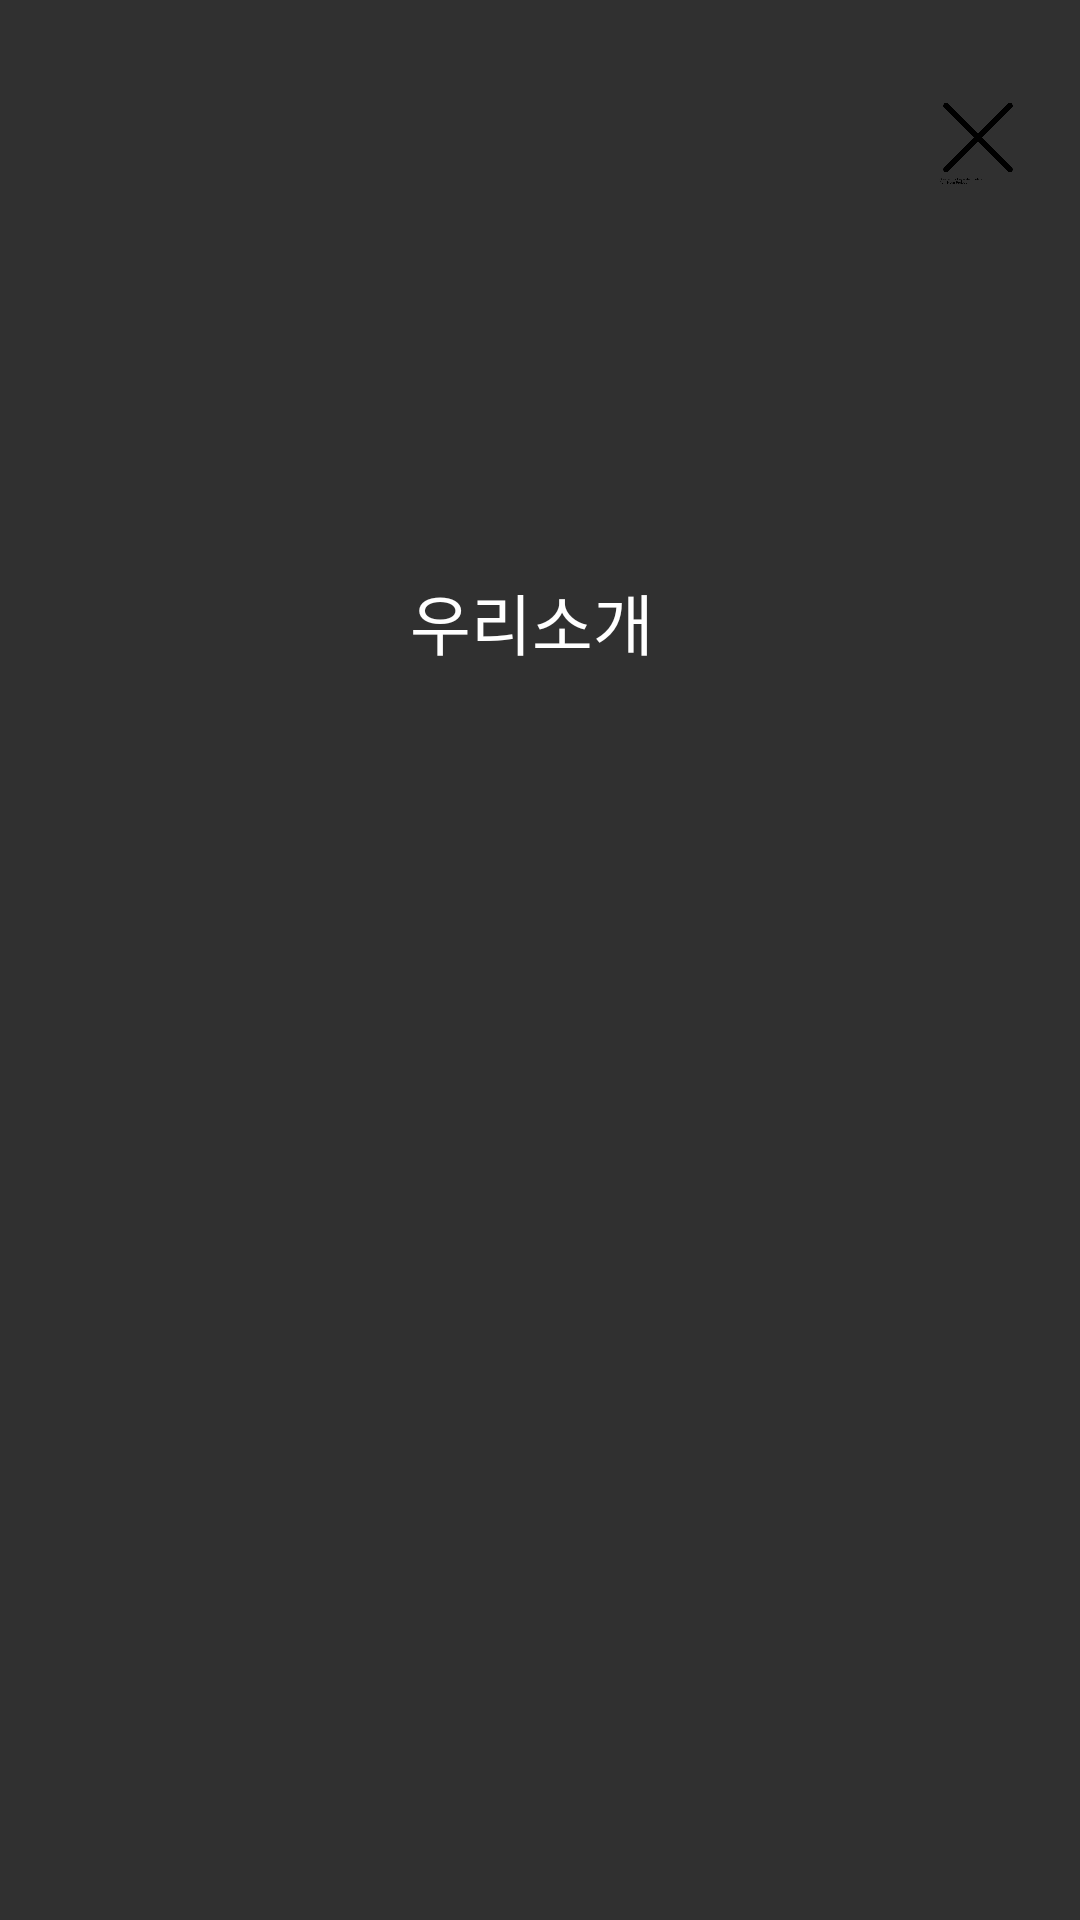

Where icons sit on this 1080 x 1920 app screen, as (x1, y1, x2, y2):
exit: (940, 103, 1013, 184)
